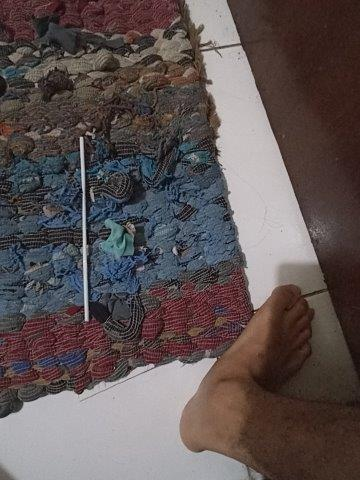sedotan: (79, 137, 90, 321)
